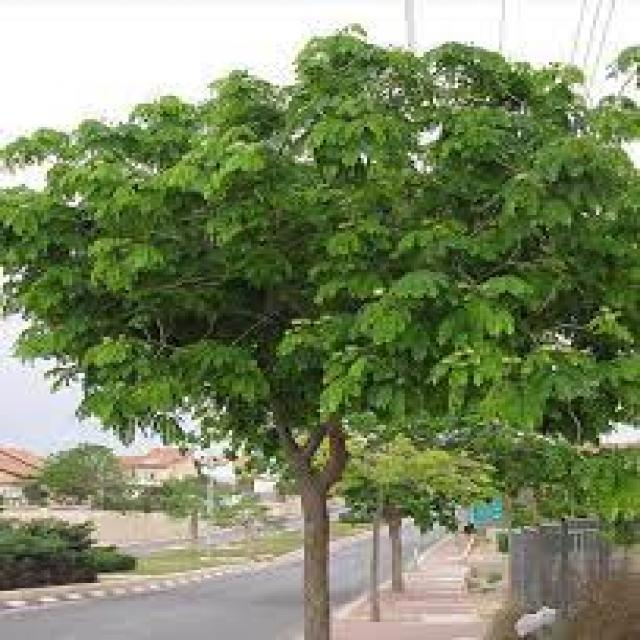Tree: (4, 32, 640, 640), (334, 426, 422, 621), (42, 442, 111, 512)
